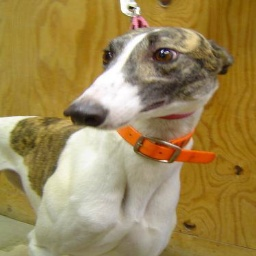dog: (0, 18, 232, 256)
